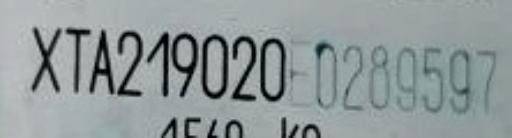letter: (22, 28, 64, 93), (82, 28, 124, 93), (283, 34, 315, 108), (113, 25, 145, 97), (170, 31, 200, 99), (230, 34, 260, 102), (260, 34, 290, 102), (200, 34, 230, 100), (366, 43, 394, 111), (416, 45, 444, 113), (472, 46, 498, 118), (66, 24, 92, 92), (144, 29, 170, 97), (448, 46, 472, 118), (314, 41, 338, 109), (342, 43, 366, 111), (392, 45, 416, 113)
